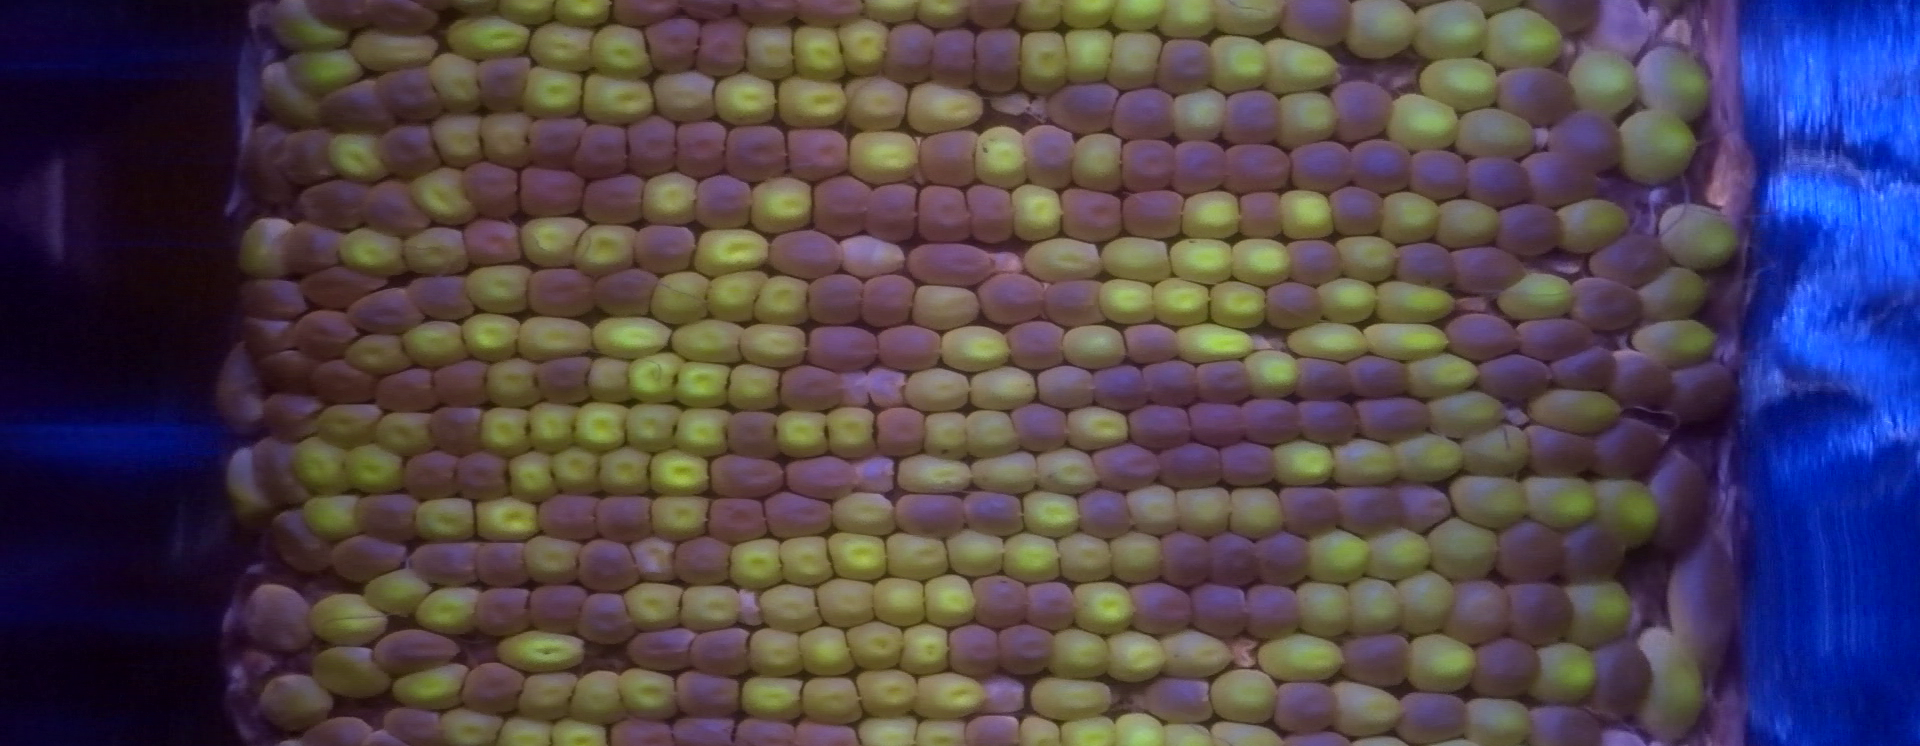fluorescent: (1637, 628, 1700, 746), (1480, 9, 1569, 80), (1656, 201, 1742, 272), (1407, 1, 1495, 70), (1633, 49, 1716, 122), (1618, 108, 1697, 180), (1517, 472, 1604, 534), (1404, 630, 1487, 696), (258, 1, 366, 51), (1561, 579, 1637, 650), (309, 639, 396, 701), (1584, 479, 1664, 544), (1527, 386, 1625, 439), (1259, 36, 1344, 96), (1627, 314, 1720, 367), (1455, 104, 1538, 164), (1529, 642, 1602, 710), (1419, 390, 1513, 441), (1337, 1, 1419, 60), (1329, 677, 1411, 736), (1449, 472, 1533, 528), (842, 129, 928, 184), (1567, 51, 1644, 113), (1453, 421, 1540, 475), (1389, 93, 1464, 154), (300, 597, 394, 646), (1428, 518, 1501, 581), (223, 448, 279, 529), (253, 673, 334, 729), (1026, 673, 1118, 722), (389, 661, 471, 714), (825, 488, 904, 541), (767, 77, 850, 127), (1331, 435, 1404, 491), (1458, 693, 1537, 746), (1373, 281, 1463, 326), (909, 671, 994, 719), (1000, 528, 1071, 586), (1502, 272, 1580, 325), (670, 320, 754, 367), (1387, 430, 1462, 484), (1101, 233, 1180, 283), (1419, 60, 1510, 104), (1402, 350, 1485, 398), (588, 314, 677, 358), (495, 628, 587, 671), (1431, 195, 1506, 247), (692, 232, 776, 278), (1106, 626, 1169, 687), (429, 58, 493, 118), (828, 528, 894, 587), (516, 314, 601, 359), (1104, 28, 1162, 96), (516, 219, 599, 266), (909, 87, 989, 135), (1174, 485, 1244, 540), (1558, 198, 1627, 254), (1333, 230, 1403, 285), (578, 73, 653, 125), (973, 129, 1032, 194), (405, 173, 480, 223), (233, 216, 298, 273), (1122, 481, 1187, 539), (413, 587, 485, 638), (703, 269, 770, 325), (812, 576, 882, 628), (1057, 26, 1117, 87), (1211, 36, 1271, 97), (1026, 240, 1107, 285), (1018, 29, 1074, 94), (1293, 583, 1358, 639), (617, 665, 682, 722), (474, 401, 534, 461), (1309, 524, 1371, 582), (714, 72, 778, 129), (1096, 274, 1161, 330), (365, 571, 440, 619), (842, 619, 910, 671), (1360, 321, 1453, 359), (1344, 577, 1406, 635), (1172, 318, 1251, 363), (589, 24, 654, 78), (645, 495, 722, 540), (647, 271, 713, 323), (1157, 631, 1232, 677), (443, 16, 527, 58), (574, 227, 642, 278), (1259, 635, 1340, 677), (740, 673, 807, 724), (1067, 135, 1127, 192), (403, 232, 475, 279), (414, 499, 484, 548), (1054, 533, 1119, 586), (1379, 194, 1444, 246), (789, 26, 849, 82), (820, 405, 880, 462), (869, 575, 931, 630), (344, 445, 407, 499), (894, 453, 975, 495), (316, 402, 388, 448), (913, 284, 982, 333), (375, 412, 443, 461), (1367, 528, 1435, 577), (754, 277, 818, 330), (759, 586, 823, 638), (621, 582, 684, 635), (1169, 239, 1240, 285), (748, 184, 816, 233), (1228, 234, 1296, 283), (938, 328, 1013, 372), (300, 497, 375, 541), (847, 78, 910, 131), (721, 361, 784, 414), (471, 497, 544, 543), (1228, 484, 1284, 541), (1104, 530, 1163, 586), (838, 18, 891, 78), (880, 534, 951, 579), (624, 353, 687, 404), (726, 539, 789, 590), (1275, 192, 1338, 243), (796, 626, 860, 676), (901, 367, 973, 412), (1270, 437, 1335, 486), (1074, 583, 1139, 632), (800, 677, 864, 726), (1278, 93, 1337, 147), (1213, 670, 1272, 724), (528, 23, 598, 69), (737, 321, 807, 366), (460, 314, 527, 361), (643, 174, 704, 225), (337, 232, 410, 274), (769, 409, 831, 459), (524, 401, 587, 451), (469, 266, 536, 312), (677, 359, 733, 414), (621, 401, 677, 456), (573, 401, 629, 456), (506, 450, 563, 503), (964, 407, 1022, 459), (1067, 403, 1133, 450), (850, 670, 920, 714), (1153, 276, 1215, 326), (289, 437, 350, 488), (1022, 489, 1084, 539), (523, 537, 587, 584), (743, 27, 800, 81), (1010, 186, 1064, 243), (584, 356, 640, 410), (1400, 573, 1452, 631), (672, 408, 731, 459), (1288, 323, 1365, 363), (1205, 281, 1266, 330), (1047, 630, 1108, 679), (944, 533, 1010, 578), (1180, 194, 1243, 241), (748, 632, 813, 677), (891, 624, 951, 673), (520, 673, 580, 722), (650, 450, 711, 497), (1643, 274, 1709, 318), (287, 50, 369, 86), (1060, 327, 1130, 369), (678, 584, 742, 630), (913, 412, 975, 458), (1242, 350, 1296, 403), (520, 69, 583, 114), (326, 135, 388, 180), (1172, 91, 1229, 138), (547, 446, 605, 494), (596, 445, 654, 492), (782, 538, 840, 586), (574, 674, 624, 728), (1314, 281, 1376, 323), (852, 713, 933, 746), (971, 450, 1035, 491), (435, 116, 489, 164), (920, 577, 973, 625), (404, 322, 465, 364), (489, 359, 542, 405), (347, 337, 410, 376), (967, 369, 1033, 405), (1040, 454, 1100, 492), (443, 710, 504, 746), (1113, 1, 1169, 39), (1056, 715, 1118, 746), (1016, 1, 1071, 36), (1163, 1, 1223, 32), (1114, 712, 1167, 746), (911, 1, 972, 29), (500, 714, 553, 746), (1062, 1, 1118, 31), (553, 1, 617, 27), (503, 1, 560, 28), (551, 722, 606, 746)
nonfluorescent: (1667, 540, 1738, 686), (1647, 450, 1707, 549), (1587, 644, 1658, 725), (1501, 579, 1575, 654), (211, 347, 276, 429), (1490, 66, 1580, 125), (1507, 310, 1604, 363), (264, 506, 340, 572), (1472, 637, 1548, 702), (1442, 575, 1511, 646), (1665, 364, 1740, 429), (1491, 524, 1570, 586), (1584, 233, 1671, 288), (1337, 631, 1417, 691), (1587, 416, 1671, 472), (762, 228, 853, 278), (242, 587, 313, 652), (1547, 113, 1625, 171), (1056, 183, 1131, 243), (1271, 677, 1348, 736), (1522, 148, 1600, 206), (1566, 277, 1644, 334), (691, 171, 758, 238), (249, 441, 315, 508), (888, 491, 972, 544), (808, 176, 879, 238), (369, 628, 462, 675), (720, 126, 793, 185), (323, 534, 411, 583), (989, 621, 1059, 682), (1521, 423, 1602, 475), (628, 222, 705, 277), (1395, 687, 1467, 746), (782, 454, 871, 502), (1562, 521, 1629, 584), (1280, 1, 1354, 58), (911, 180, 978, 243), (572, 121, 640, 183), (1445, 244, 1524, 296), (1109, 86, 1180, 145), (1251, 532, 1322, 590), (906, 239, 996, 285), (1337, 481, 1409, 539), (669, 118, 733, 181), (857, 181, 924, 243), (1347, 135, 1416, 195), (1136, 677, 1220, 726), (972, 27, 1029, 99), (1494, 202, 1567, 257), (703, 494, 778, 548), (1202, 530, 1267, 592), (242, 129, 294, 206), (1022, 125, 1081, 192), (1438, 312, 1518, 361), (1130, 581, 1198, 639), (1273, 483, 1343, 539), (1091, 443, 1167, 495), (1044, 83, 1130, 129), (1329, 80, 1396, 137), (1151, 533, 1218, 590), (1404, 148, 1473, 205), (459, 164, 528, 220), (340, 290, 427, 334), (1464, 156, 1536, 209), (1151, 439, 1227, 489), (517, 167, 593, 217), (754, 490, 834, 538), (1118, 187, 1191, 239), (456, 218, 533, 267), (1188, 582, 1251, 641), (571, 543, 649, 590), (967, 579, 1038, 632), (1524, 699, 1604, 746), (804, 325, 890, 367), (276, 130, 340, 186), (318, 87, 397, 134), (964, 183, 1019, 249), (672, 537, 740, 590), (1260, 281, 1329, 333), (687, 625, 756, 677), (626, 116, 684, 178), (1044, 277, 1118, 326), (915, 132, 980, 187), (585, 494, 660, 541), (869, 326, 948, 371), (1195, 356, 1262, 409), (351, 494, 424, 543), (691, 22, 751, 81), (882, 27, 938, 89), (940, 621, 1003, 677), (456, 665, 529, 713), (780, 363, 845, 416), (1007, 401, 1071, 454), (1213, 437, 1280, 490), (1018, 582, 1084, 635), (1478, 354, 1553, 401), (293, 183, 373, 225), (1222, 145, 1294, 192), (373, 71, 446, 119), (1172, 137, 1233, 194), (579, 175, 648, 225), (1243, 586, 1305, 641), (446, 451, 509, 505), (672, 668, 742, 717), (784, 127, 849, 180), (1187, 399, 1251, 452), (707, 453, 786, 496), (1391, 240, 1457, 292), (1358, 394, 1435, 439), (309, 358, 386, 402), (405, 541, 482, 586), (523, 583, 589, 635), (977, 271, 1044, 321), (724, 410, 791, 461), (1156, 39, 1216, 96), (1117, 136, 1178, 191), (1392, 483, 1453, 538), (623, 628, 704, 670), (959, 492, 1027, 541), (591, 269, 660, 318), (1223, 92, 1288, 143), (1344, 354, 1414, 402), (375, 129, 444, 176), (1293, 353, 1359, 403), (1607, 352, 1665, 408), (1238, 398, 1307, 446), (874, 402, 932, 458), (471, 589, 538, 638), (640, 20, 703, 71), (1325, 186, 1387, 238), (405, 277, 482, 318), (421, 407, 490, 453), (534, 495, 602, 541), (806, 273, 864, 327), (1288, 142, 1354, 190), (358, 187, 429, 232), (931, 29, 982, 89), (1234, 189, 1294, 240), (1283, 236, 1344, 287), (525, 118, 587, 168), (469, 541, 531, 590), (1550, 344, 1618, 390), (1090, 364, 1153, 412), (400, 452, 465, 499), (257, 343, 317, 393), (1071, 492, 1135, 539), (1127, 407, 1195, 450), (369, 367, 443, 407), (298, 309, 359, 356), (1142, 365, 1205, 412), (478, 59, 533, 111), (527, 272, 594, 315), (1529, 1, 1603, 40), (1300, 396, 1360, 443), (238, 281, 310, 320), (860, 278, 920, 325), (973, 675, 1033, 722), (358, 2, 441, 36), (261, 394, 323, 439), (1007, 325, 1068, 367), (236, 318, 305, 356), (296, 269, 381, 300), (582, 599, 639, 643), (285, 225, 342, 269), (386, 708, 449, 746), (290, 717, 372, 746), (1124, 323, 1183, 363), (538, 363, 600, 399), (736, 715, 808, 746), (667, 713, 733, 746), (962, 713, 1027, 746), (956, 1, 1024, 32), (431, 366, 487, 401), (722, 1, 802, 24), (793, 720, 863, 746), (610, 722, 681, 746), (304, 1, 371, 24)
